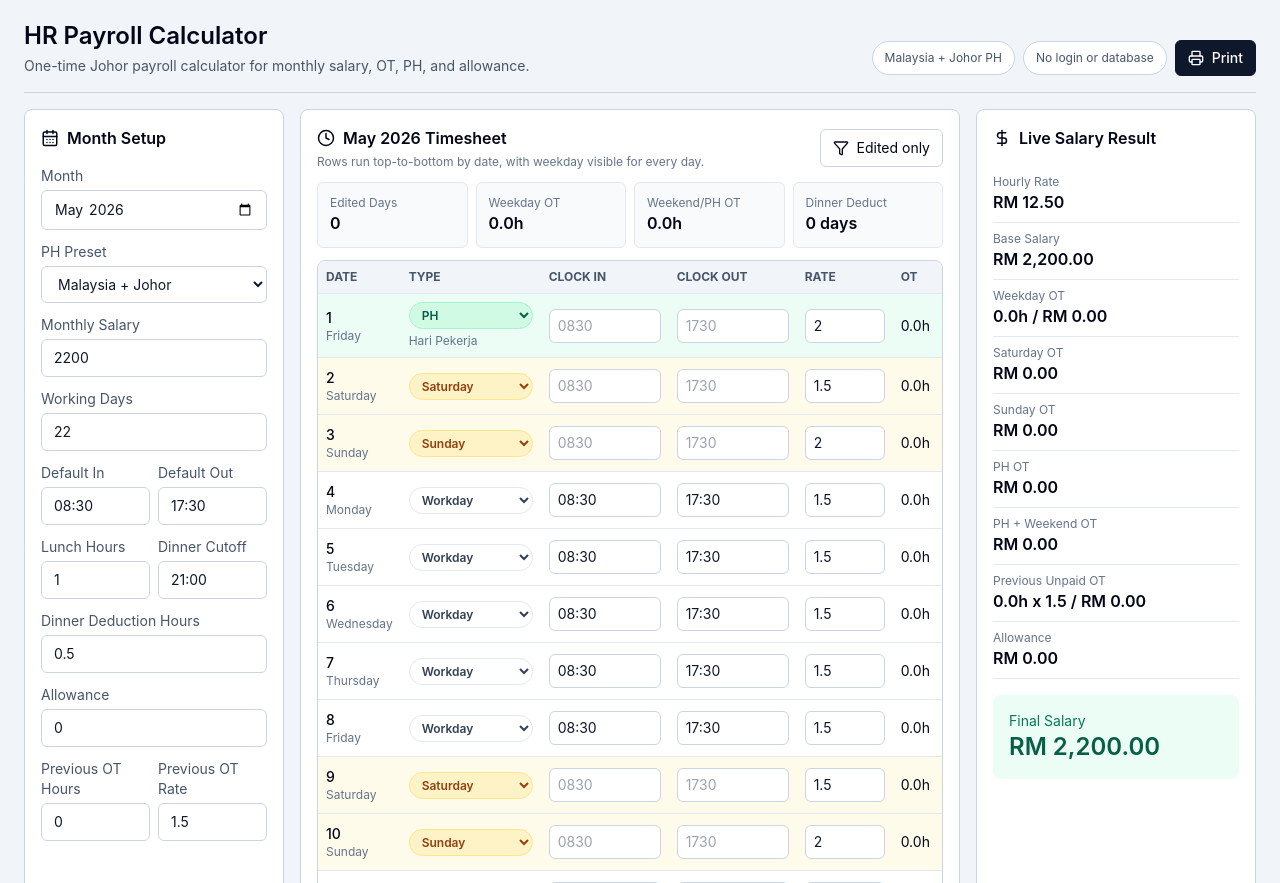
Payroll workbench › updates salary summary when allowance changes
The image size is (1280, 883).
Expected: the number field labelled "Previous OT Hours" holds "0", [41, 803, 150, 841]
Expected: the field labelled "Dinner Cutoff" holds "21:00", [158, 561, 267, 599]
Replace the text in the number field labelled "Allowance" with "200" at (154, 728), box [41, 709, 267, 747]
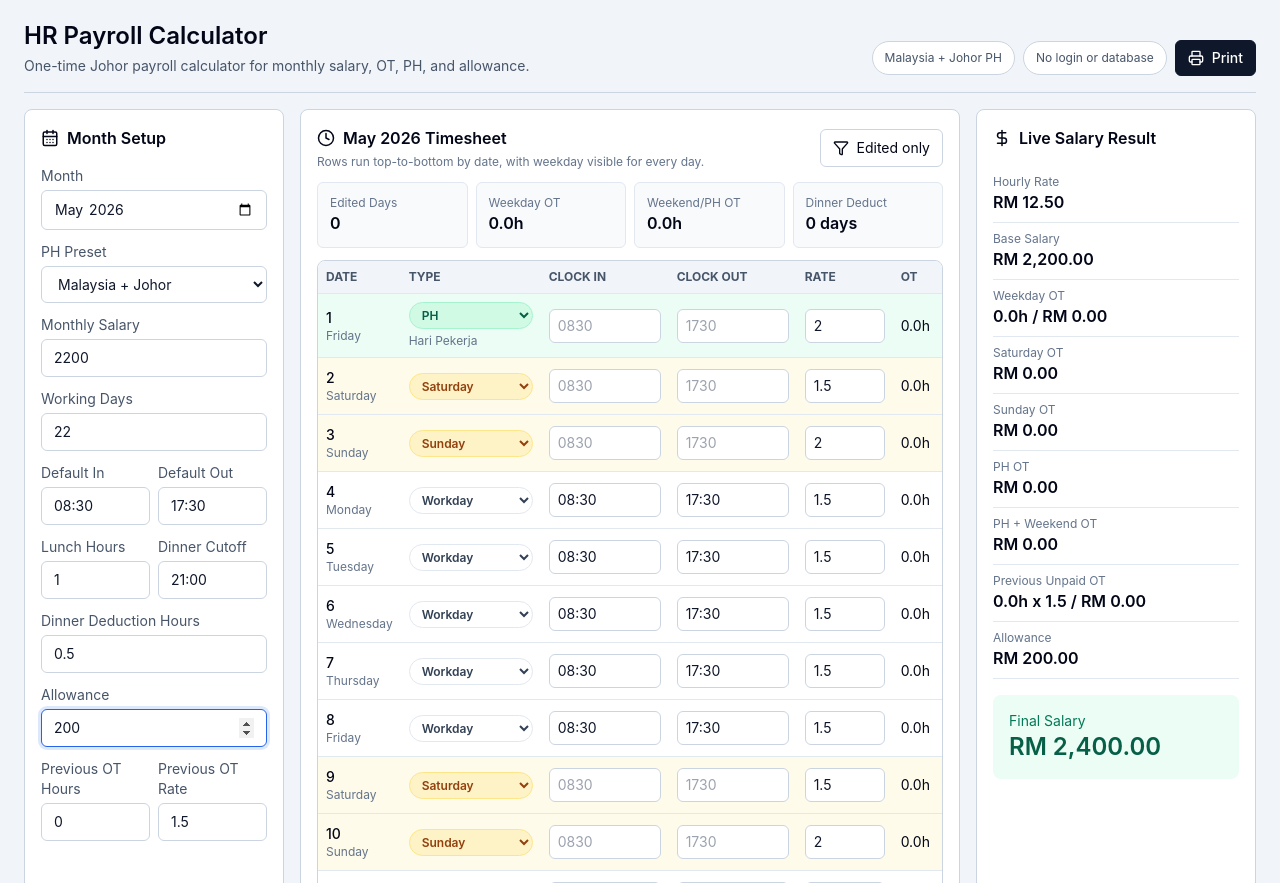
Result: the text "RM 2,400.00" is shown at [1009, 732, 1161, 761]
